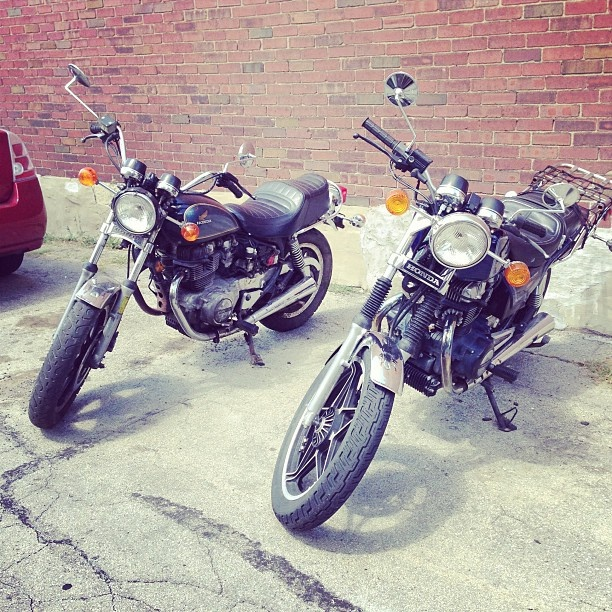non-vehicle: (271, 72, 612, 533), (29, 62, 366, 429)
